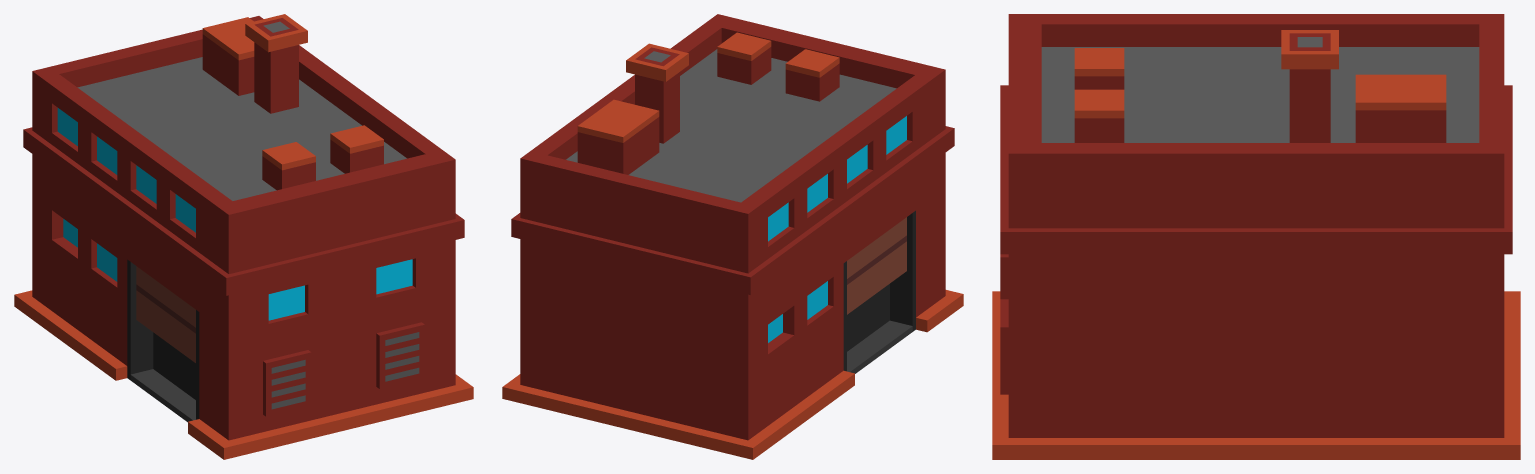
The model's file is Building02.obj.
3 renders of one model, left to right at view 1: azimuth 30°, elevation 25°; view 2: azimuth 150°, elevation 25°; view 3: azimuth 270°, elevation 25°, orthographic. The views are drawn at different scales.
Bounding box in the file's own units: 4.4 × 5 × 6.4.
1 material, 1 textured.
